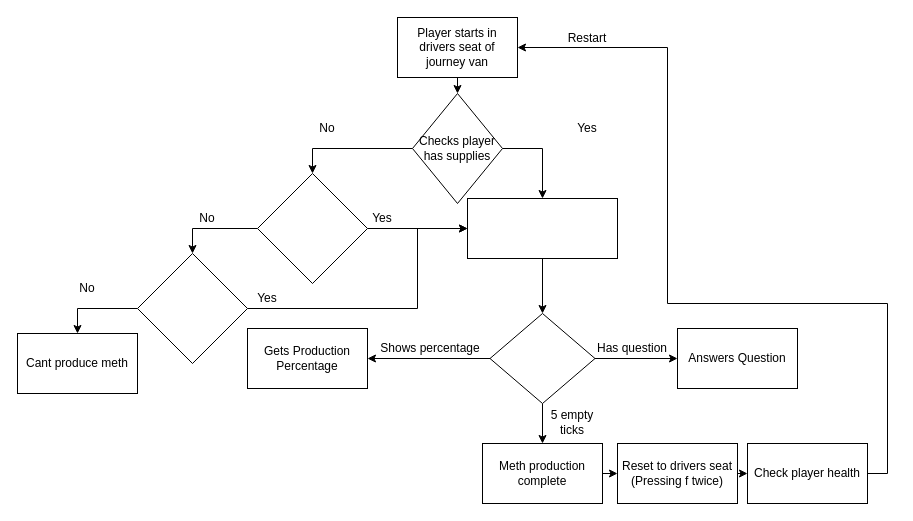
The diagram is 913 pixels wide and 521 high, and some of its shapes have lost their labels. The box of each missing label's shape, as (x1, y1, x2, y2) in pixels:
Checks Boot: (136, 252, 248, 364)
Checks glovebox for supplies: (256, 172, 368, 284)
Starts meth production (Presses G): (466, 198, 618, 258)
Tick check every second: (489, 312, 595, 404)
